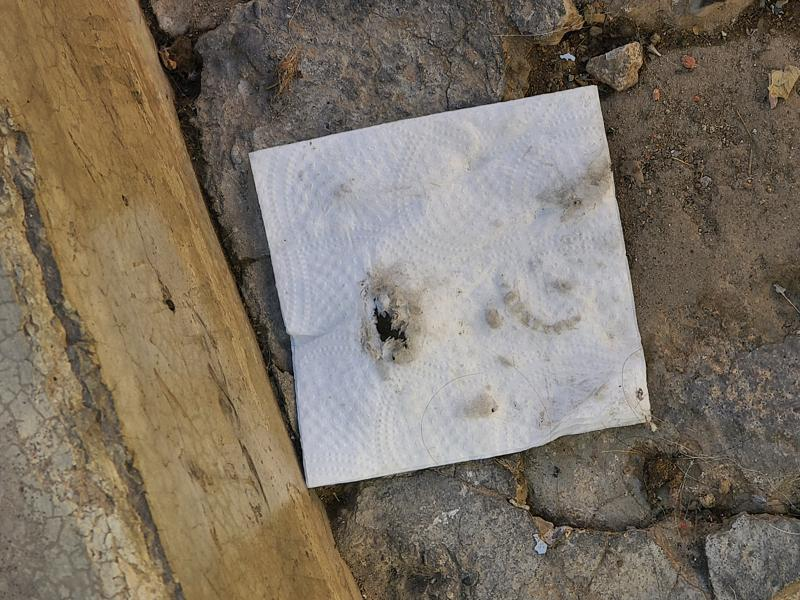papel: (242, 86, 653, 490)
